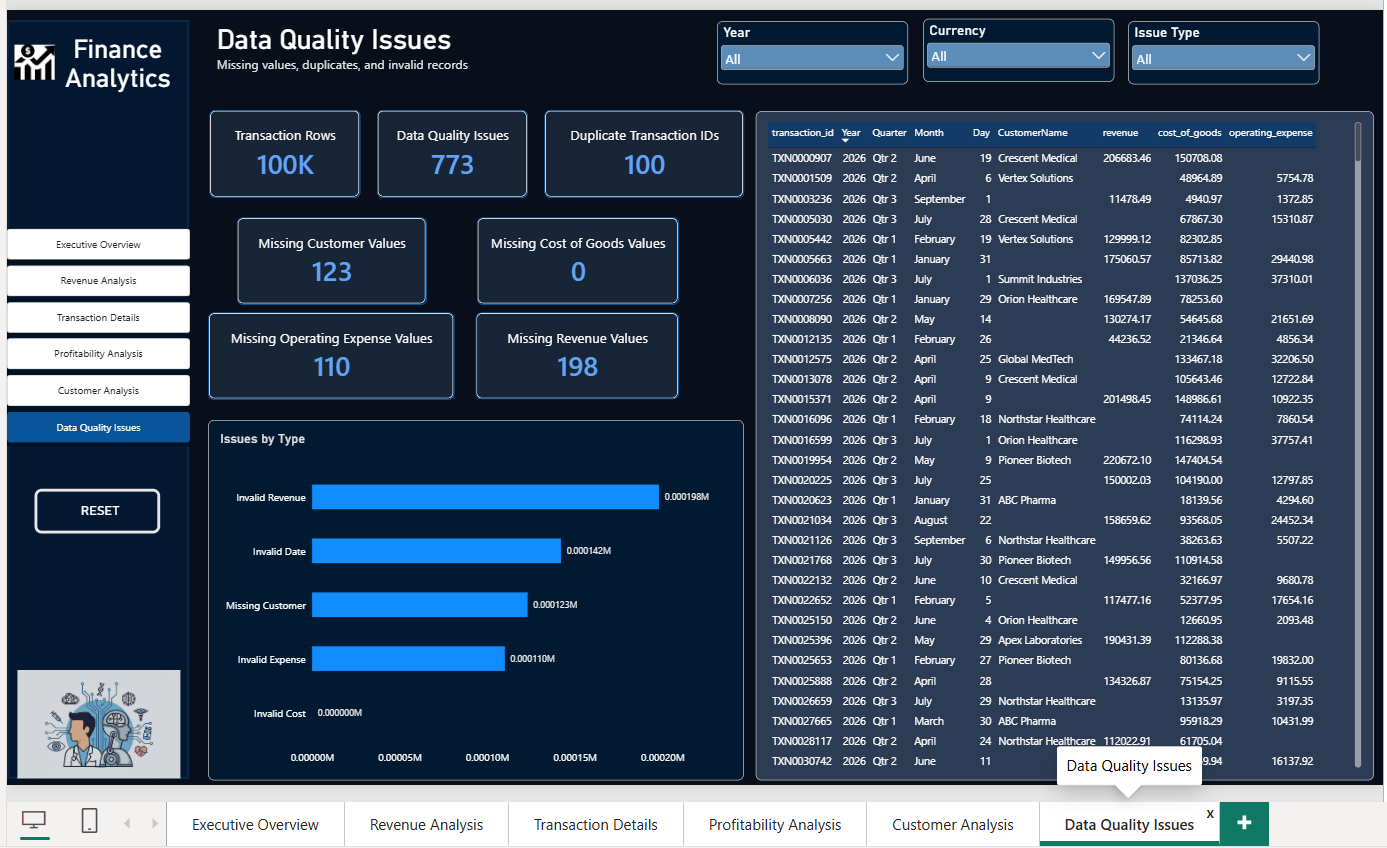

The page's visual inventory and layout, read from the dashboard file:
{"tool":"powerbi","page":{"name":"Data Quality Issues","canvas":[1920,1080],"ordinal":5},"visuals":[{"type":"shape","box":[0,14,254,1058],"z":0},{"type":"textbox","title":"Finance Analytics","box":[28.1,23.8,253.2,101.7],"z":1000},{"type":"pageNavigator","box":[0,305.1,255.4,303],"z":2000},{"type":"textbox","title":"Data Quality Issues","box":[282,14,638,88],"z":3000},{"type":"cardVisual","fields":{"Data":["Measures (2).Transaction Rows"]},"box":[282,140,210,122],"z":4000},{"type":"cardVisual","fields":{"Data":["Measures (2).Data Quality Issues"]},"box":[516,140,210,122],"z":4001},{"type":"cardVisual","fields":{"Data":["Measures (2).Duplicate Transaction IDs"]},"box":[750,140,278,122],"z":4002},{"type":"clusteredBarChart","title":"Issues by Type","fields":{"Category":["Data Quality Summary.Issue Type"],"Y":["Sum(Data Quality Summary.Issue Count)"]},"box":[281.3,571.3,746.6,502.1],"z":4003},{"type":"tableEx","fields":{"Values":["dw FactTransactions.transaction_id","dw DimDate.FullDate.Variation.Date Hierarchy.Year","dw DimDate.FullDate.Variation.Date Hierarchy.Quarter","dw DimDate.FullDate.Variation.Date Hierarchy.Month","dw DimDate.FullDate.Variation.Date Hierarchy.Day","dw DimCustomer.CustomerName","dw FactTransactions.revenue","dw FactTransactions.cost_of_goods","dw FactTransactions.operating_expense"]},"box":[1043.1,140.7,861.3,932.7],"z":4004},{"type":"cardVisual","fields":{"Data":["Data Quality Summary.Missing Revenue Values"]},"box":[653.6,422,283.5,121.2],"z":4005},{"type":"cardVisual","fields":{"Data":["Data Quality Summary.Missing Operating Expense Values"]},"box":[281.3,422,343.5,121.6],"z":4006},{"type":"cardVisual","fields":{"Data":["Data Quality Summary.Missing Customer Values"]},"box":[320.3,290,264.5,121.6],"z":4007},{"type":"cardVisual","fields":{"Data":["Data Quality Summary.Missing Cost of Goods Values"]},"box":[655.7,290,281.6,121.6],"z":4008},{"type":"slicer","fields":{"Values":["dw DimDate.FullDate.Variation.Date Hierarchy.Year"]},"box":[989.9,14.9,266,88],"z":4009},{"type":"slicer","fields":{"Values":["dw DimCurrency.CurrencyCode"]},"box":[1277.9,12.8,266,88],"z":4010},{"type":"slicer","fields":{"Values":["Data Quality Summary.Issue Type"]},"box":[1563.7,14.9,266,88],"z":4011},{"type":"image","box":[10.8,43.3,56.3,58.4],"z":4012},{"type":"actionButton","title":"RESET","box":[39,666.6,175.3,62.8],"z":4013},{"type":"image","box":[2.2,919.8,253.2,151.5],"z":4014}]}

Visuals, with their boxes on the page's 1920x1080 design canvas (x1, y1, x2, y2). These are canvas units, not pixel positions in the 1387x848 screenshot, which may show the page scaled, cropped or inside an application window:
shape: (0,14,254,1072)
"Finance Analytics" textbox: (28,24,281,126)
pageNavigator: (0,305,255,608)
"Data Quality Issues" textbox: (282,14,920,102)
cardVisual - Measures (2).Transaction Rows: (282,140,492,262)
cardVisual - Measures (2).Data Quality Issues: (516,140,726,262)
cardVisual - Measures (2).Duplicate Transaction IDs: (750,140,1028,262)
"Issues by Type" clusteredBarChart: (281,571,1028,1073)
tableEx - dw FactTransactions.transaction_id x dw DimDate.FullDate.Variation.Date Hierarchy.Year: (1043,141,1904,1073)
cardVisual - Data Quality Summary.Missing Revenue Values: (654,422,937,543)
cardVisual - Data Quality Summary.Missing Operating Expense Values: (281,422,625,544)
cardVisual - Data Quality Summary.Missing Customer Values: (320,290,585,412)
cardVisual - Data Quality Summary.Missing Cost of Goods Values: (656,290,937,412)
slicer - dw DimDate.FullDate.Variation.Date Hierarchy.Year: (990,15,1256,103)
slicer - dw DimCurrency.CurrencyCode: (1278,13,1544,101)
slicer - Data Quality Summary.Issue Type: (1564,15,1830,103)
image: (11,43,67,102)
"RESET" actionButton: (39,667,214,729)
image: (2,920,255,1071)
